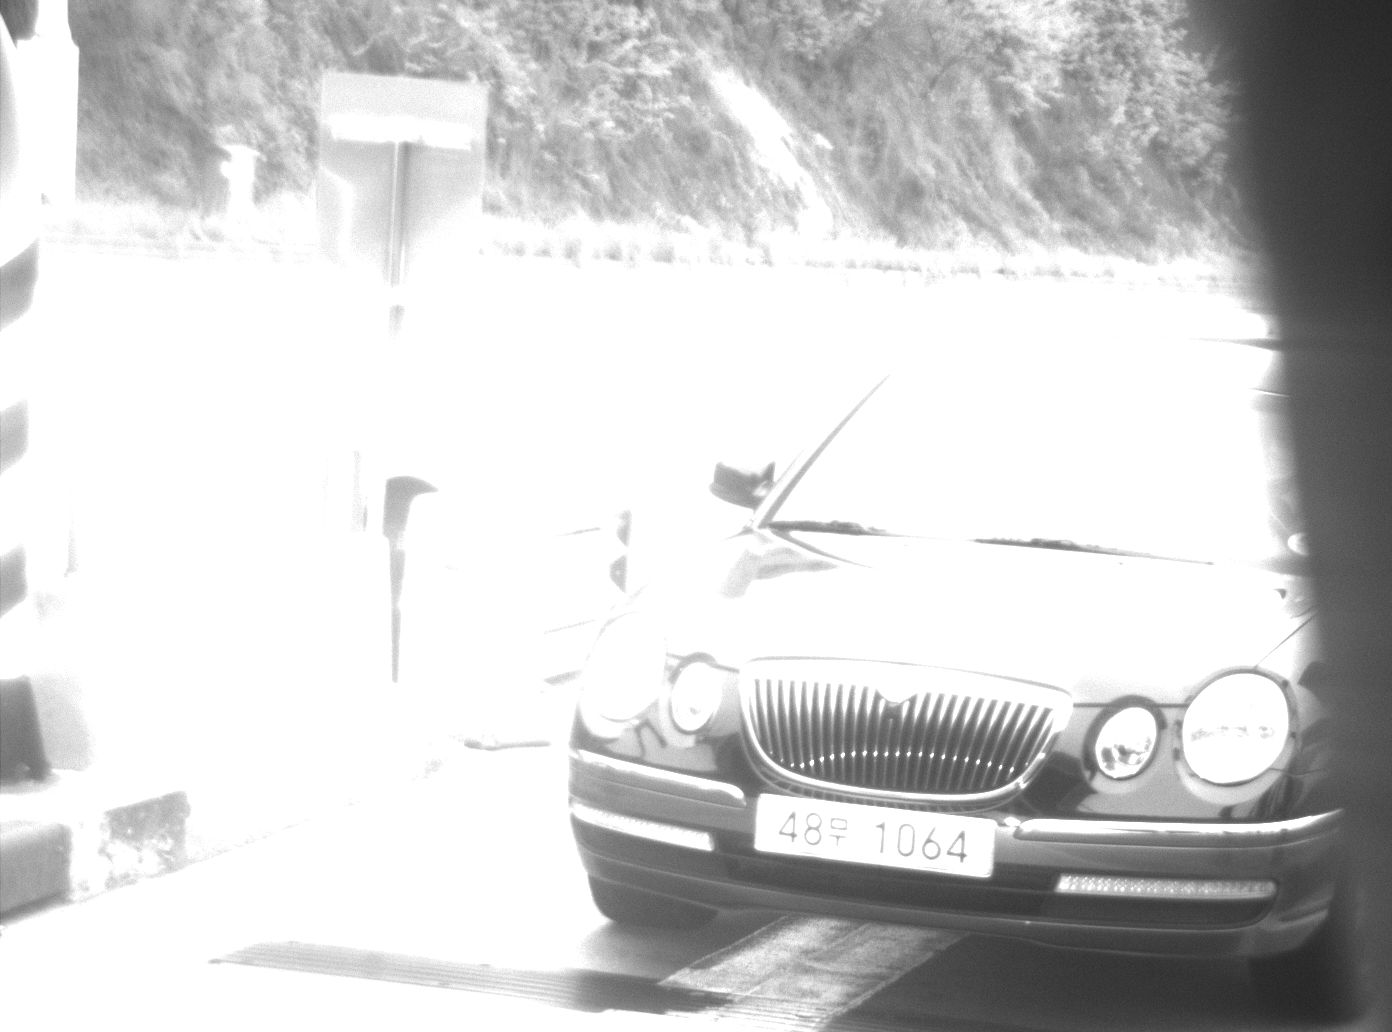car: (561, 256, 1350, 985)
plate: (751, 791, 999, 882)
